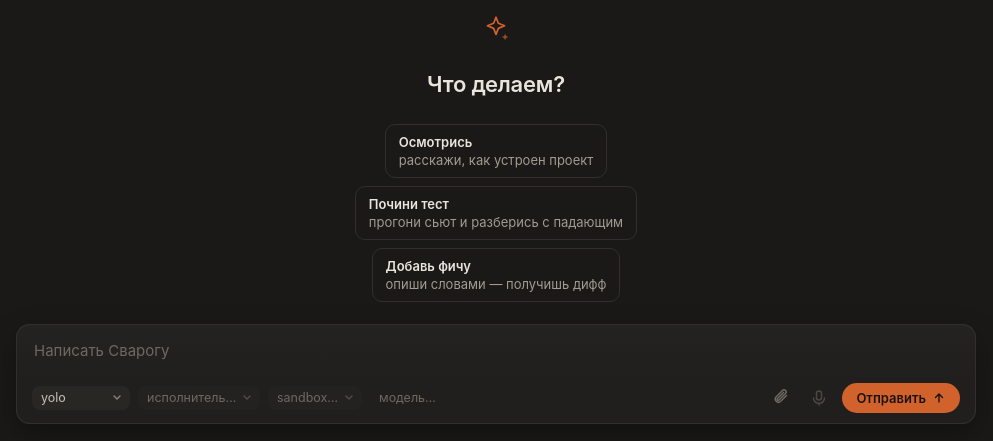
Test: слэш-команды › неизвестная команда не отправляется, а объясняется
Type "/опечатка" into the dropdown labelled "Написать Сварогу". click: (496, 351)
box: [32,338,960,364]
Then press Escape, Enter
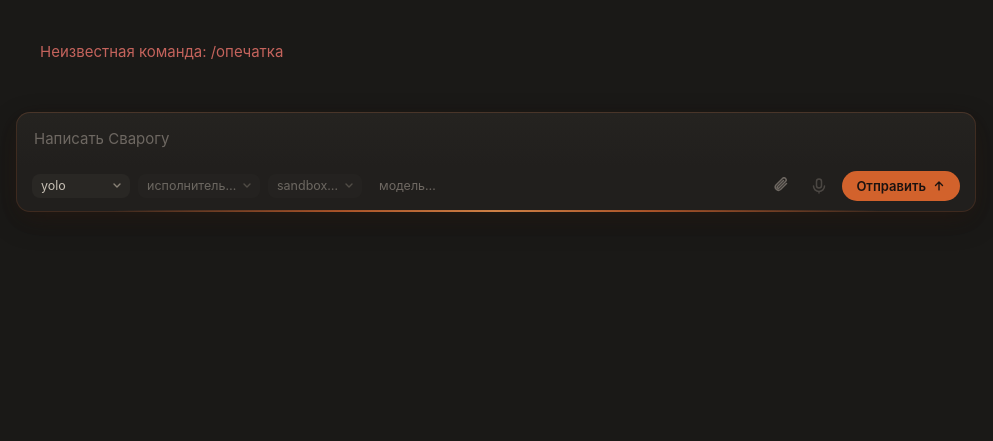
Expected: the text "Неизвестная команда: /опечатка" is shown, [40,42,283,61]
